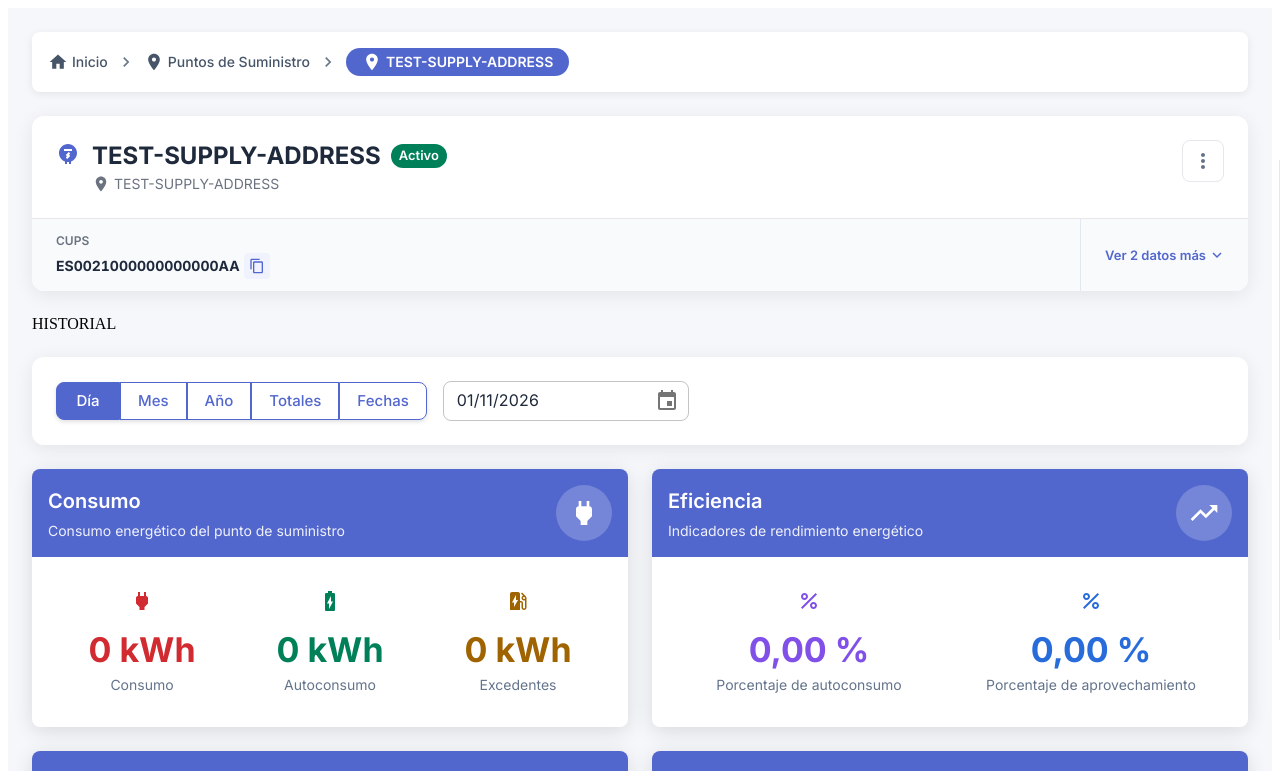
Test: SupplyDetailPage › UI-SUP-001 Eliminar punto de suministro on the header menu › UI-SUP-001 is offered for a supply that reports canDelete
Click the button named "Más opciones del punto de suministro": (1203,161) [1182,140,1224,182]
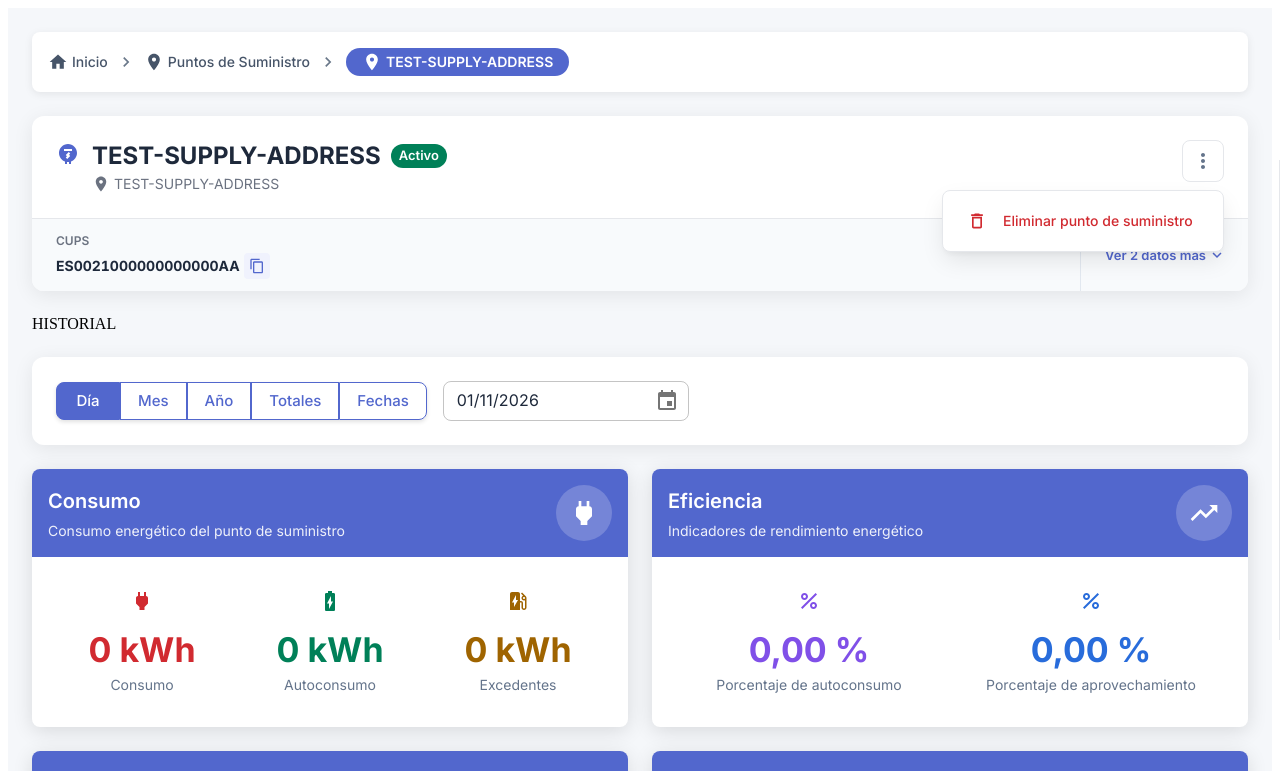
Expected: the menu item "Eliminar punto de suministro" is shown, [967,211,1193,231]
